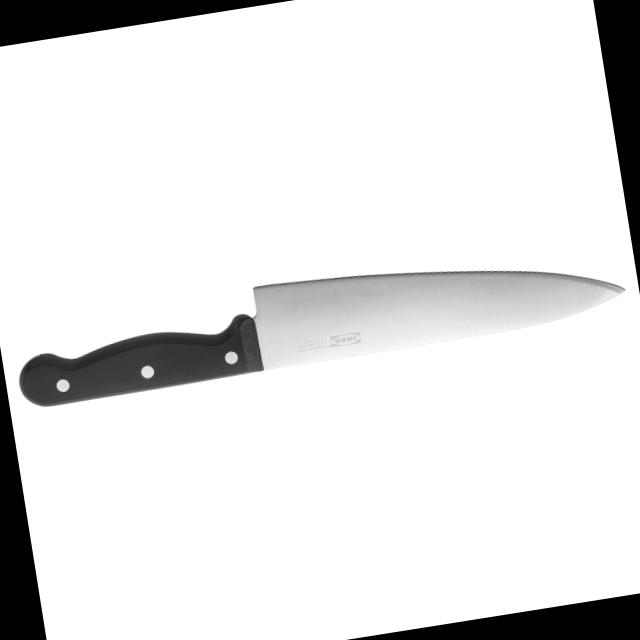Weapon: (10, 222, 640, 424)
